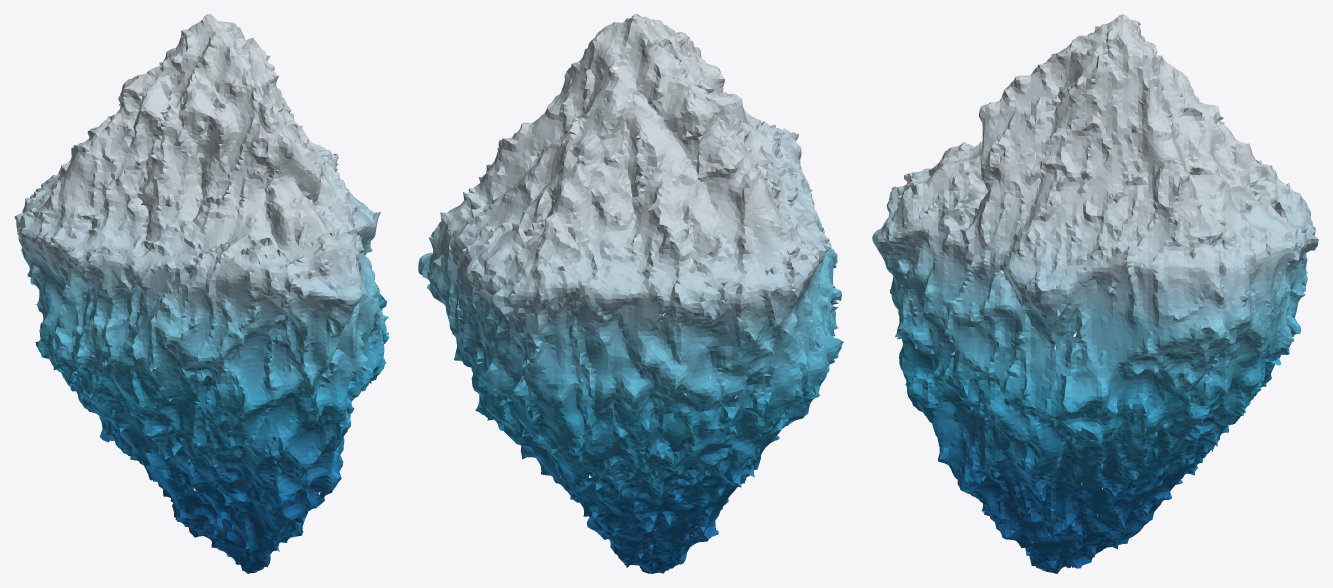
The model's file is ice.glb.
The picture shows the model from 3 angles, left to right: view 1: azimuth 30°, elevation 25°; view 2: azimuth 150°, elevation 25°; view 3: azimuth 270°, elevation 25°; orthographic projection. The views are drawn at different scales.
Bounding box in the file's own units: 1.27 × 1.99 × 1.45.
